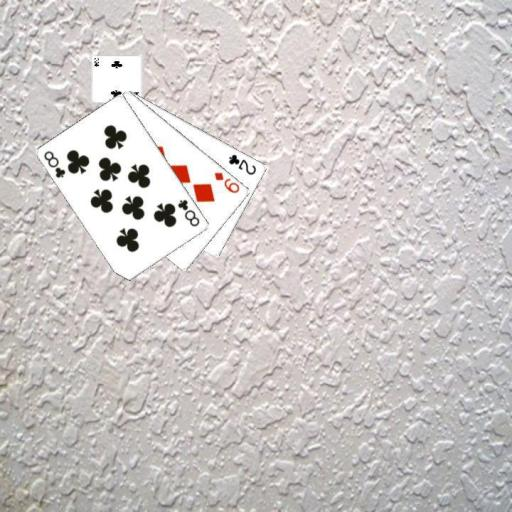card-corner: (40, 148, 67, 180), (175, 196, 201, 228), (211, 169, 242, 195), (226, 151, 258, 176)
